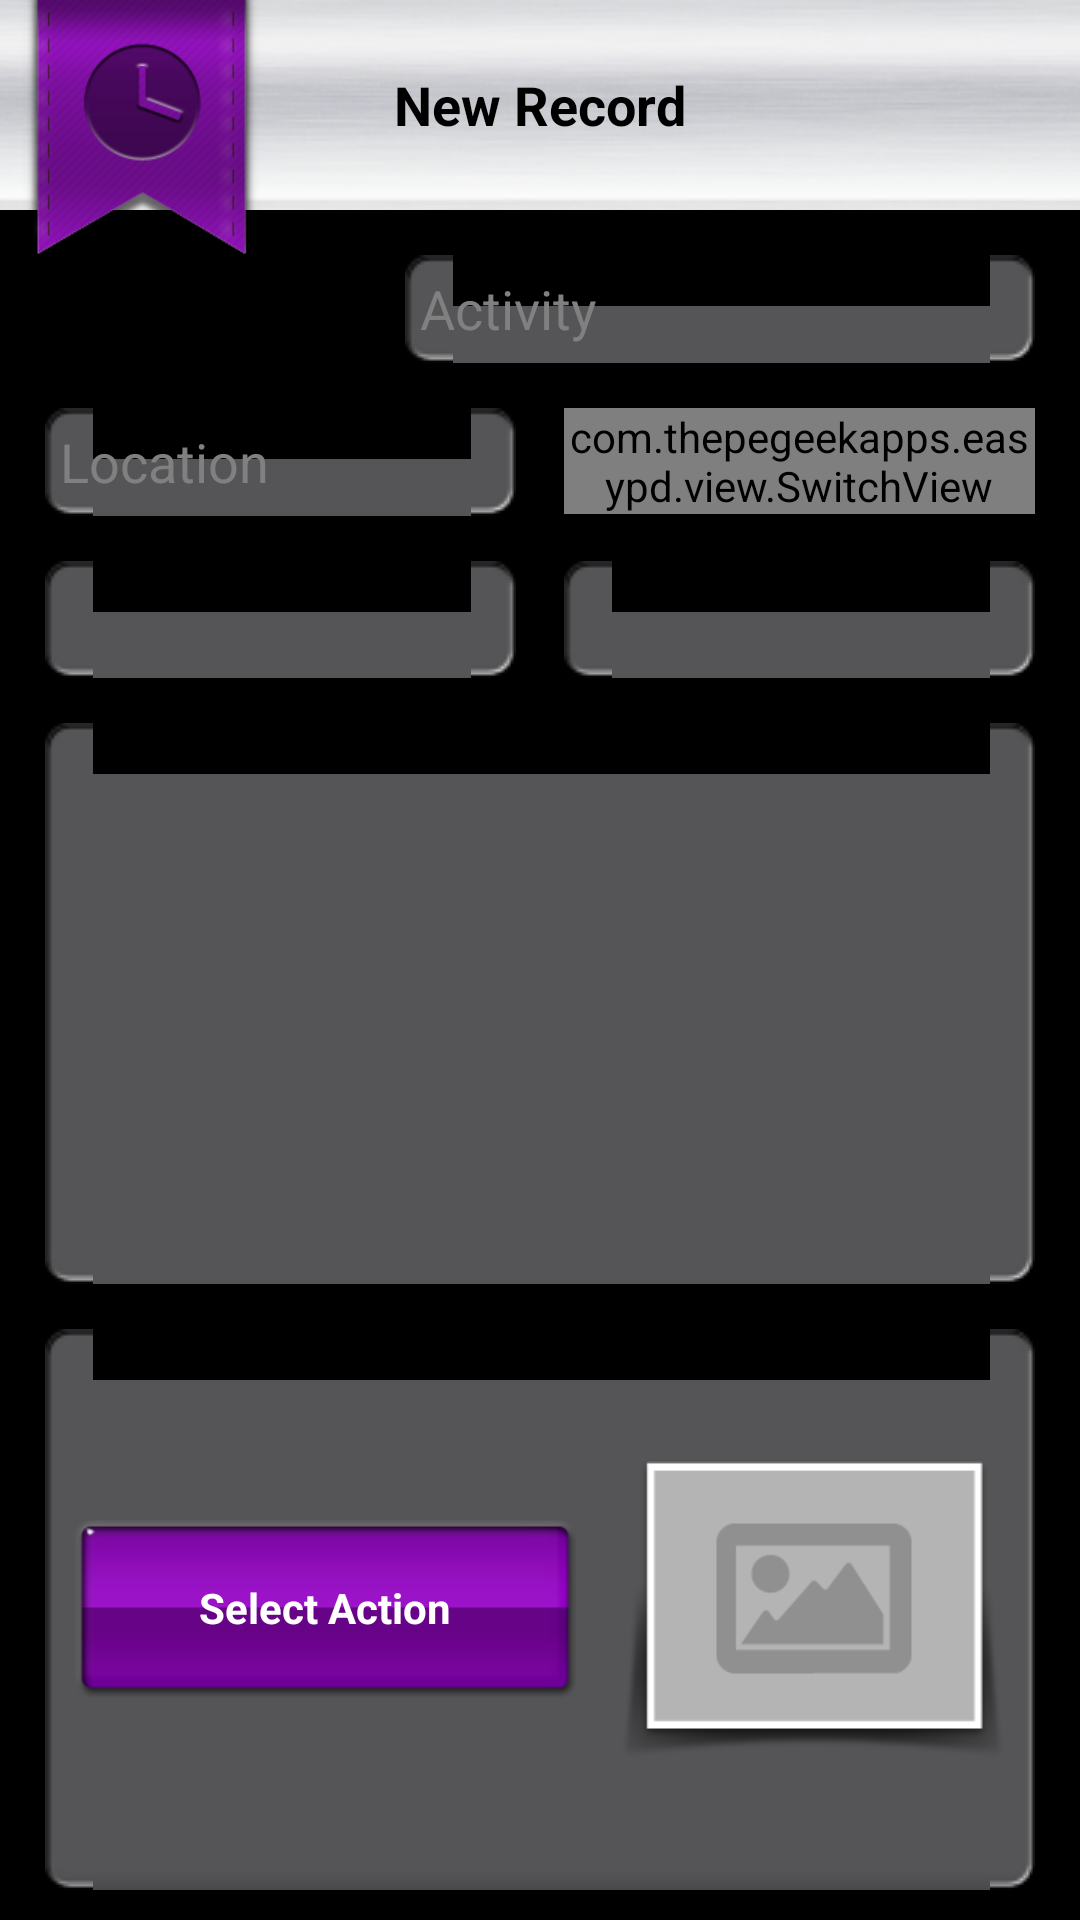

Where to tap for icons on this 1080*1920 app screen, as (x=x, y=y):
ribbon: (x=141, y=133)
